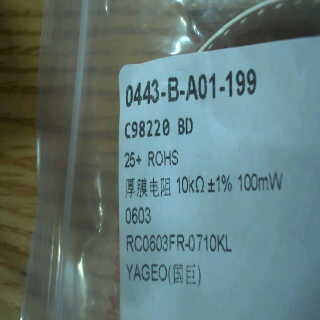10kR: (171, 171, 207, 195)
